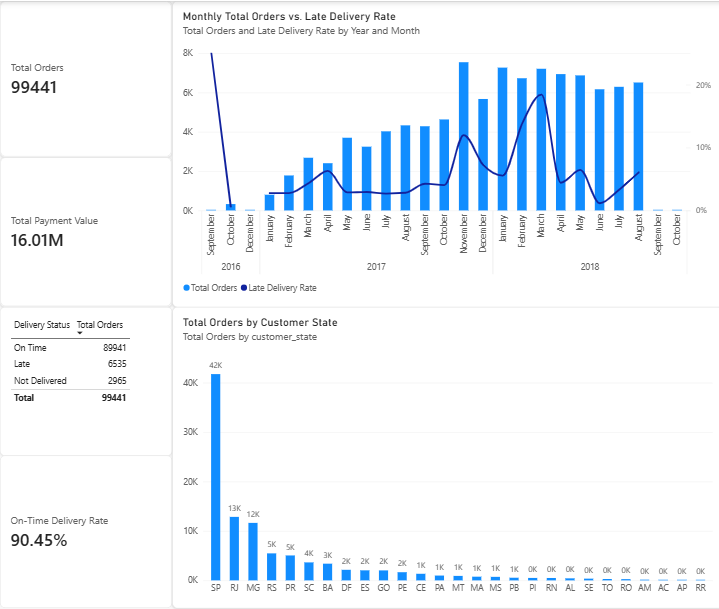

This screenshot's page, from the dashboard's own definition file:
{"tool":"powerbi","page":{"name":"Page 1","canvas":[1920,1080],"ordinal":0},"visuals":[{"type":"cardVisual","fields":{"Data":["public orders.Total Orders"]},"box":[0,0,280,254],"z":0},{"type":"cardVisual","fields":{"Data":["public payments.Total Payment Value"]},"box":[0,254,280,244],"z":1},{"type":"tableEx","fields":{"Values":["public orders.Delivery Status","public orders.Total Orders"]},"box":[0,498,280,242],"z":2},{"type":"cardVisual","fields":{"Data":["public orders.On-Time Delivery Rate"]},"box":[0,740,280,248],"z":3},{"type":"lineClusteredColumnComboChart","title":"Monthly Total Orders vs. Late Delivery Rate","fields":{"Category":["public orders.order_purchase_timestamp.Variation.Date Hierarchy.Year","public orders.order_purchase_timestamp.Variation.Date Hierarchy.Month"],"Y":["public orders.Total Orders"],"Y2":["public orders.Late Delivery Rate"]},"box":[280,0,896,498],"z":4},{"type":"clusteredColumnChart","title":"Total Orders by Customer State","fields":{"Category":["public customers.customer_state"],"Y":["public orders.Total Orders"]},"box":[280,498,896,490],"z":5}]}

Visuals, with their boxes on the page's 1920x1080 design canvas (x1, y1, x2, y2). These are canvas units, not pixel positions in the 719x609 screenshot, which may show the page scaled, cropped or inside an application window:
cardVisual - public orders.Total Orders: Rect(0, 0, 280, 254)
cardVisual - public payments.Total Payment Value: Rect(0, 254, 280, 498)
tableEx - public orders.Delivery Status x public orders.Total Orders: Rect(0, 498, 280, 740)
cardVisual - public orders.On-Time Delivery Rate: Rect(0, 740, 280, 988)
"Monthly Total Orders vs. Late Delivery Rate" lineClusteredColumnComboChart: Rect(280, 0, 1176, 498)
"Total Orders by Customer State" clusteredColumnChart: Rect(280, 498, 1176, 988)
